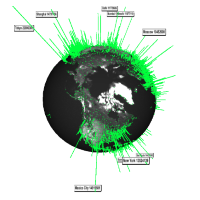

The dashboard page shown, as its layout file describes it:
{"tool":"powerbi","page":{"name":"Page 1","canvas":[960,720],"ordinal":0},"visuals":[{"type":"tableEx","fields":{"Values":["simplelatlong.city","simplelatlong.country","simplelatlong.lat","simplelatlong.lng","Sum(simplelatlong.pop)"]},"box":[472,0,488,720],"z":2},{"type":"threejsE0E480FFE18F46FE90AD2FA3A0D80C5F","fields":{"latitude":["simplelatlong.lat"],"longitude":["simplelatlong.lng"],"value":["simplelatlong.pop"],"name":["simplelatlong.city"]},"box":[16,144,448,448],"z":2}]}

Visuals, with their boxes on the page's 960x720 design canvas (x1, y1, x2, y2). These are canvas units, not pixel positions in the 200x200 screenshot, which may show the page scaled, cropped or inside an application window:
tableEx - simplelatlong.city x simplelatlong.country: 472 0 960 720
threejsE0E480FFE18F46FE90AD2FA3A0D80C5F - simplelatlong.lat x simplelatlong.lng: 16 144 464 592
